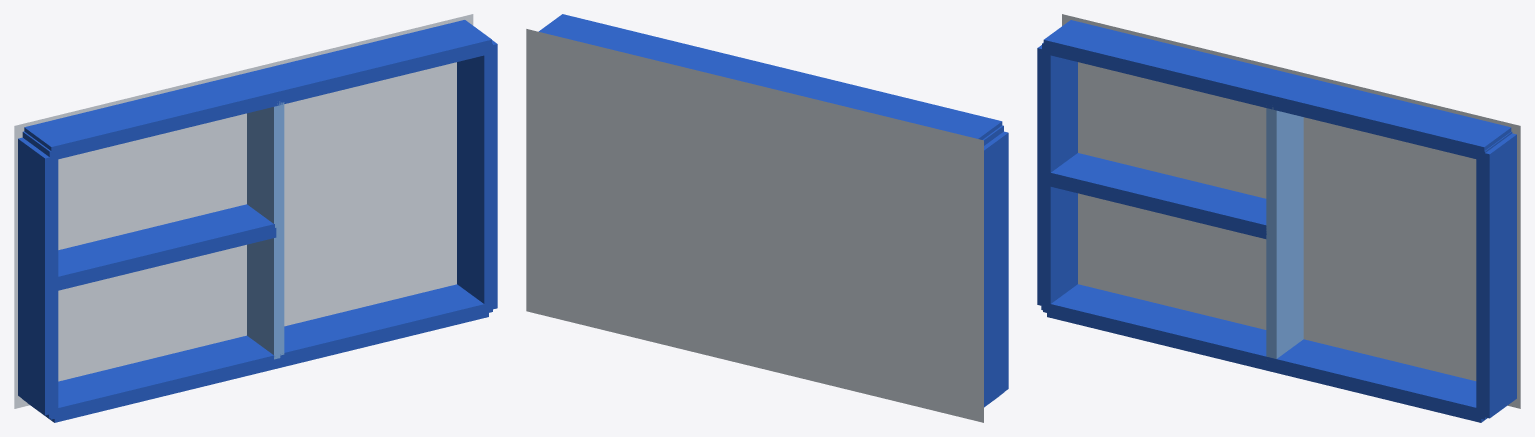
File: example_open.obj
3 views of the same model, side by side, from view 1: azimuth 30°, elevation 25°; view 2: azimuth 150°, elevation 25°; view 3: azimuth 330°, elevation 25° (orthographic).
Size of the model in its own units: 29.25 by 17.25 by 3.05.
